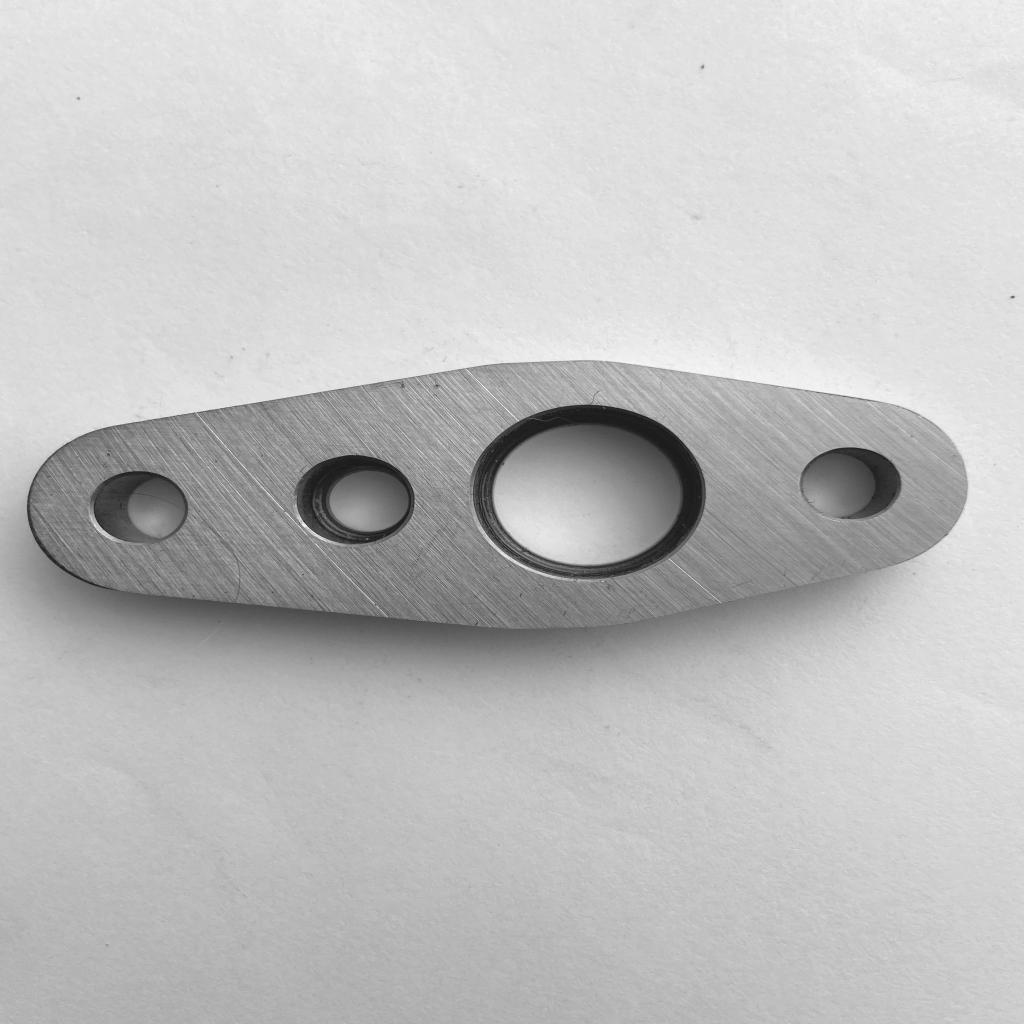lines: (414, 517, 458, 580), (371, 380, 408, 392)
